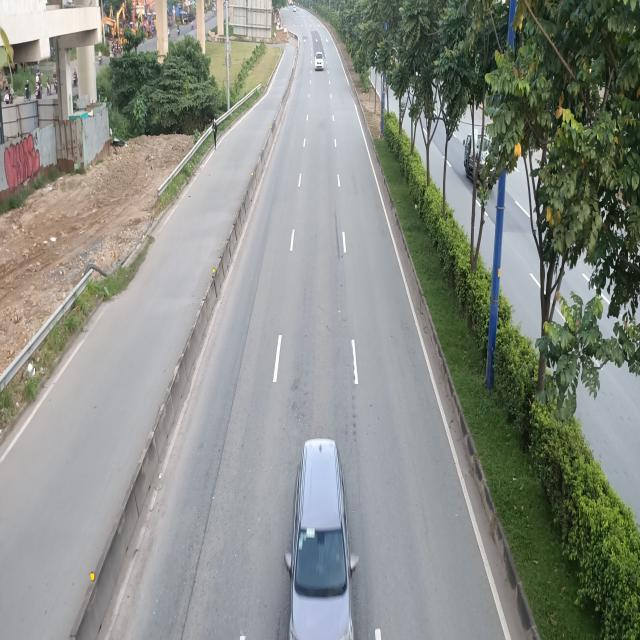car: (284, 441, 355, 640)
